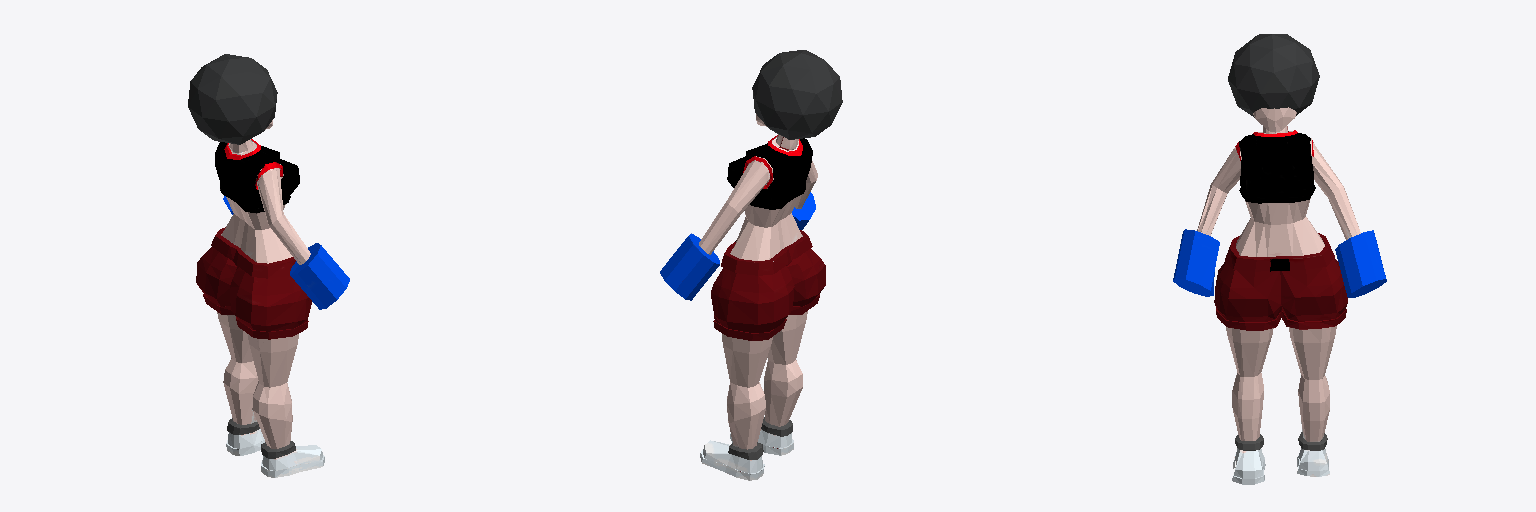
3 renders of one model, left to right at view 1: azimuth 30°, elevation 25°; view 2: azimuth 150°, elevation 25°; view 3: azimuth 270°, elevation 25°, orthographic.
Visible parts, largest first — view 1: Cube; view 2: Cube; view 3: Cube.
Boxes of the visible parts, x1,y1,x2,y2 form: Cube: [188, 54, 349, 477]; Cube: [660, 50, 842, 480]; Cube: [1173, 34, 1386, 484].
Size of the model in its own units: 4.07 by 12.46 by 5.84.
Materials: 2 (2 with a texture image).